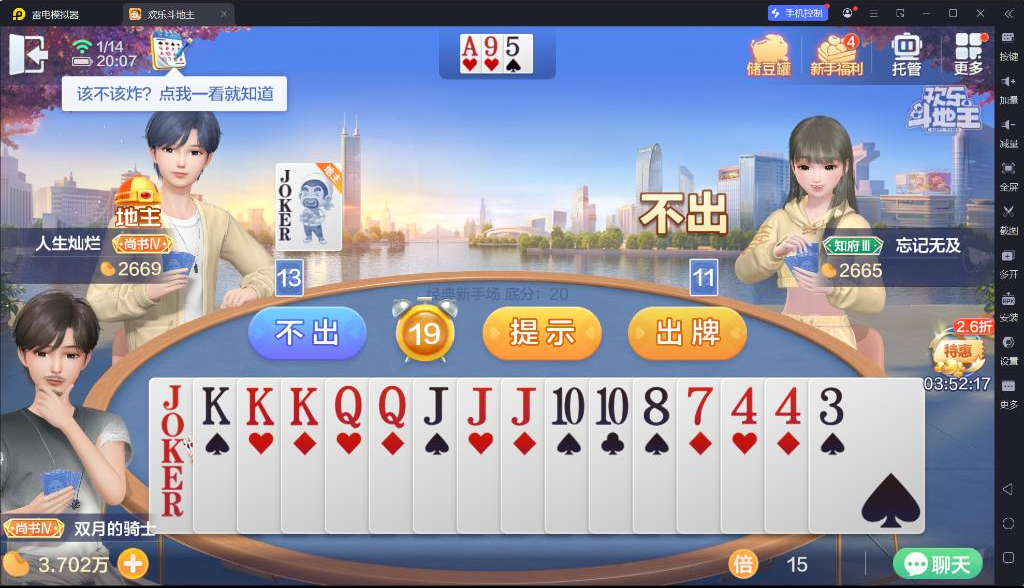A: (461, 35, 479, 57)
J: (416, 384, 452, 427), (461, 383, 495, 427), (508, 383, 538, 427)
JOKER: (155, 382, 189, 466)
K: (286, 383, 322, 429), (198, 382, 232, 429), (243, 382, 277, 429)
Q: (373, 384, 407, 431), (332, 384, 366, 430)
eight: (637, 384, 675, 427)
five: (504, 35, 521, 58)
four: (769, 383, 806, 429), (727, 384, 763, 426)
joker: (276, 168, 293, 216)
nine: (483, 35, 499, 58)
seven: (679, 384, 715, 427)
ten: (549, 383, 588, 429), (593, 384, 631, 427)
three: (814, 387, 847, 427)
